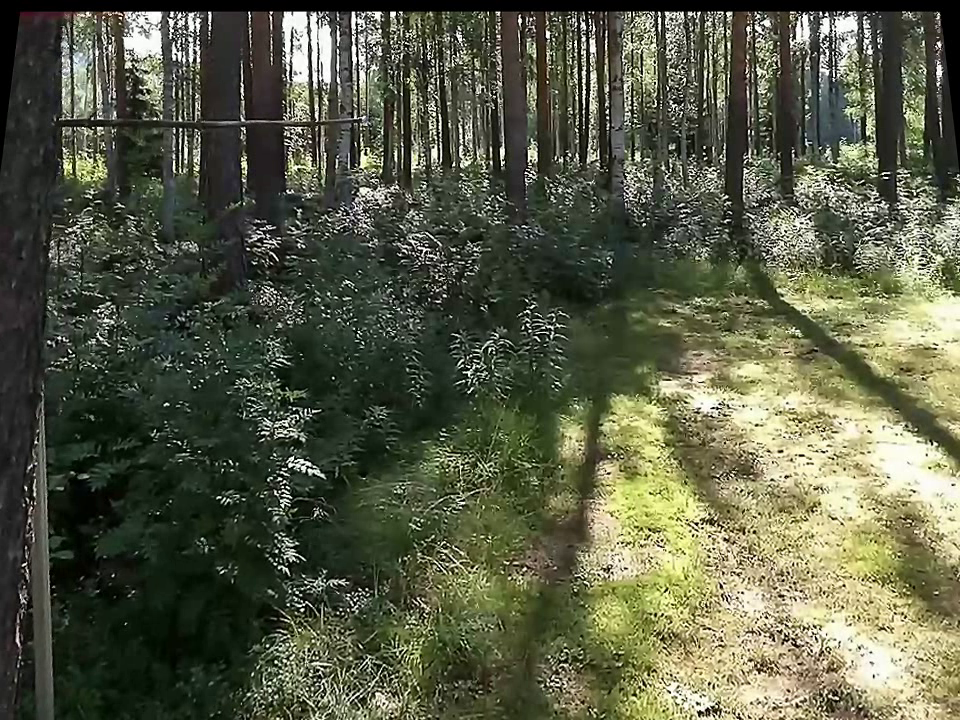aluminum_frame: (18, 384, 65, 717)
branch: (61, 100, 359, 134)
